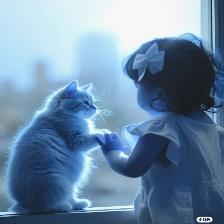kedo: (6, 81, 105, 213)
